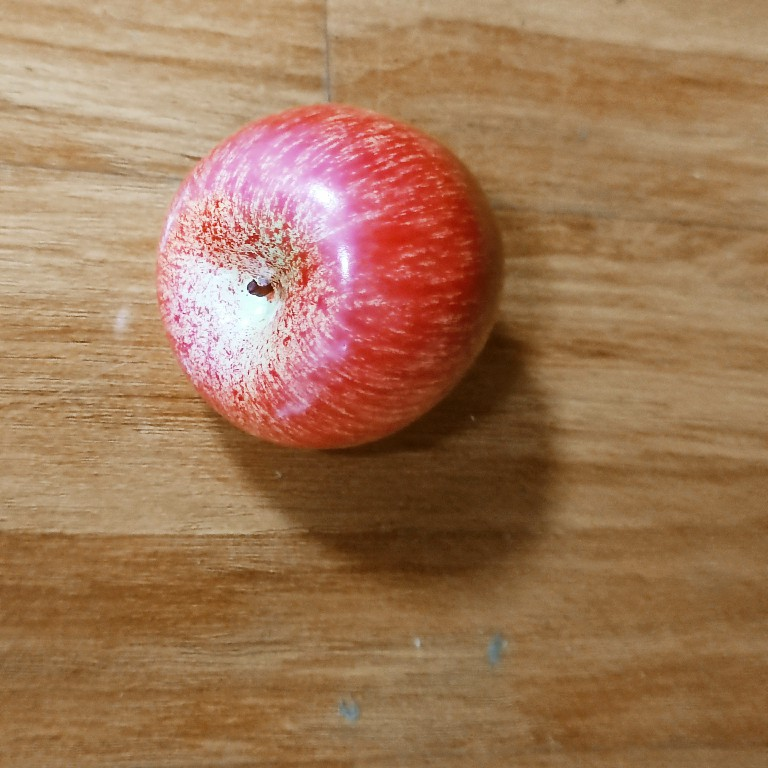fruit_apple: (148, 99, 511, 458)
